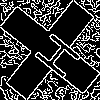H: (25, 25, 83, 81)
